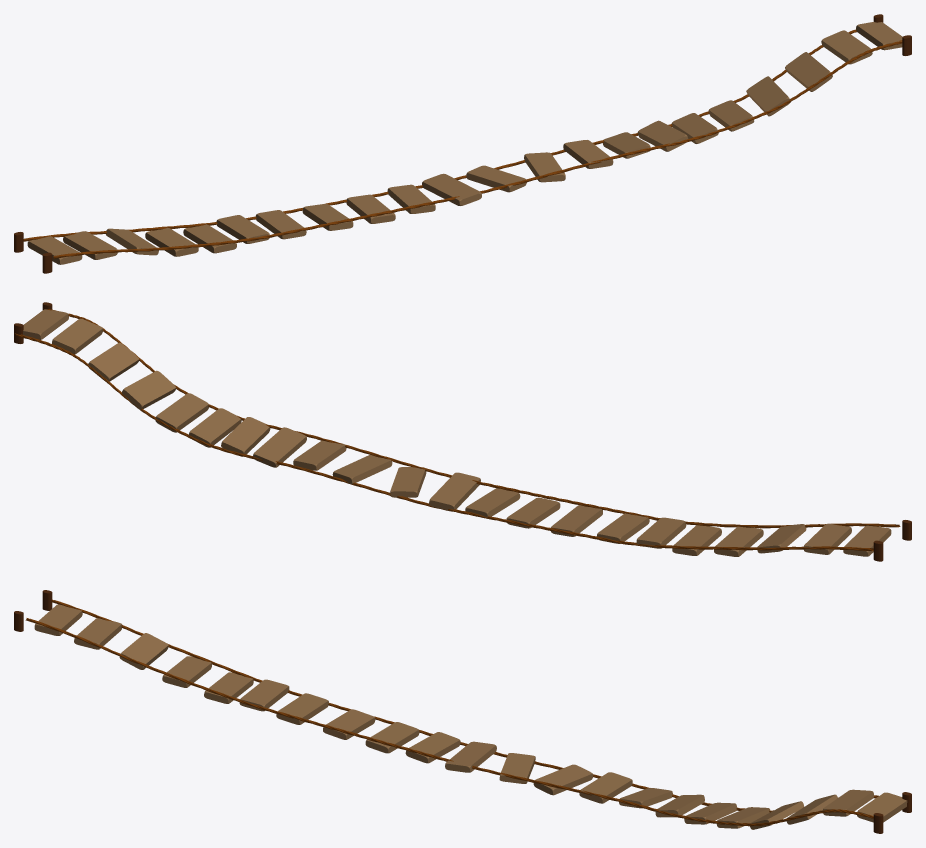
The model's file is bridge.glb.
3 renders of one model, top to bottom at view 1: azimuth 30°, elevation 25°; view 2: azimuth 150°, elevation 25°; view 3: azimuth 330°, elevation 25°, orthographic.
Parts seen in each view (by area): view 1: Circle.001, Circle.002, Cube.005, Cube.026, Cube.042, Cube.001, Cube.032, Cube.003, Cube.030, Cube.045, Cube.034, Cube.035 (+12 smaller); view 2: Circle.002, Circle.001, Cube.001, Cube.044, Cube.005, Cube.002, Cube.026, Cube.028, Cube.003, Cube.042, Cube.031, Cube.030 (+12 smaller); view 3: Circle.001, Circle.002, Cube.006, Cube.031, Cube.005, Cube.030, Cube.004, Cube.033, Cube.034, Cube.045, Cube.035, Cube.040 (+12 smaller).
Part boxes in pixels (left/top/right/bottom): Circle.001: left=53, top=40, right=902, bottom=258; Circle.002: left=23, top=29, right=856, bottom=241; Cube.005: left=422, top=173, right=481, bottom=205; Cube.026: left=785, top=52, right=832, bottom=91; Cube.042: left=821, top=30, right=872, bottom=64; Cube.001: left=746, top=76, right=790, bottom=116; Cube.032: left=466, top=165, right=526, bottom=192; Cube.003: left=637, top=120, right=688, bottom=151; Cube.030: left=563, top=140, right=613, bottom=168; Cube.045: left=216, top=215, right=269, bottom=243; Cube.034: left=255, top=210, right=306, bottom=239; Cube.035: left=145, top=227, right=198, bottom=256; Circle.002: left=15, top=333, right=873, bottom=551; Circle.001: left=47, top=309, right=900, bottom=528; Cube.001: left=122, top=370, right=175, bottom=409; Cube.044: left=253, top=427, right=306, bottom=467; Cube.005: left=429, top=472, right=480, bottom=510; Cube.002: left=155, top=393, right=208, bottom=432; Cube.026: left=88, top=342, right=139, bottom=381; Cube.028: left=189, top=408, right=241, bottom=447; Cube.003: left=221, top=417, right=270, bottom=456; Cube.042: left=52, top=318, right=103, bottom=354; Cube.031: left=332, top=454, right=392, bottom=483; Cube.030: left=293, top=440, right=346, bottom=470; Circle.001: left=25, top=618, right=873, bottom=826; Circle.002: left=51, top=599, right=878, bottom=812; Cube.006: left=119, top=633, right=168, bottom=669; Cube.031: left=533, top=764, right=592, bottom=795; Cube.005: left=445, top=741, right=496, bottom=772; Cube.030: left=579, top=772, right=632, bottom=803; Cube.004: left=405, top=732, right=460, bottom=763; Cube.033: left=365, top=722, right=419, bottom=753; Cube.034: left=276, top=693, right=328, bottom=724; Cube.045: left=239, top=679, right=289, bottom=711; Cube.035: left=162, top=656, right=211, bottom=687; Cube.040: left=323, top=709, right=375, bottom=739.
Size of the model in its own units: 63.23 by 4.99 by 5.33.
